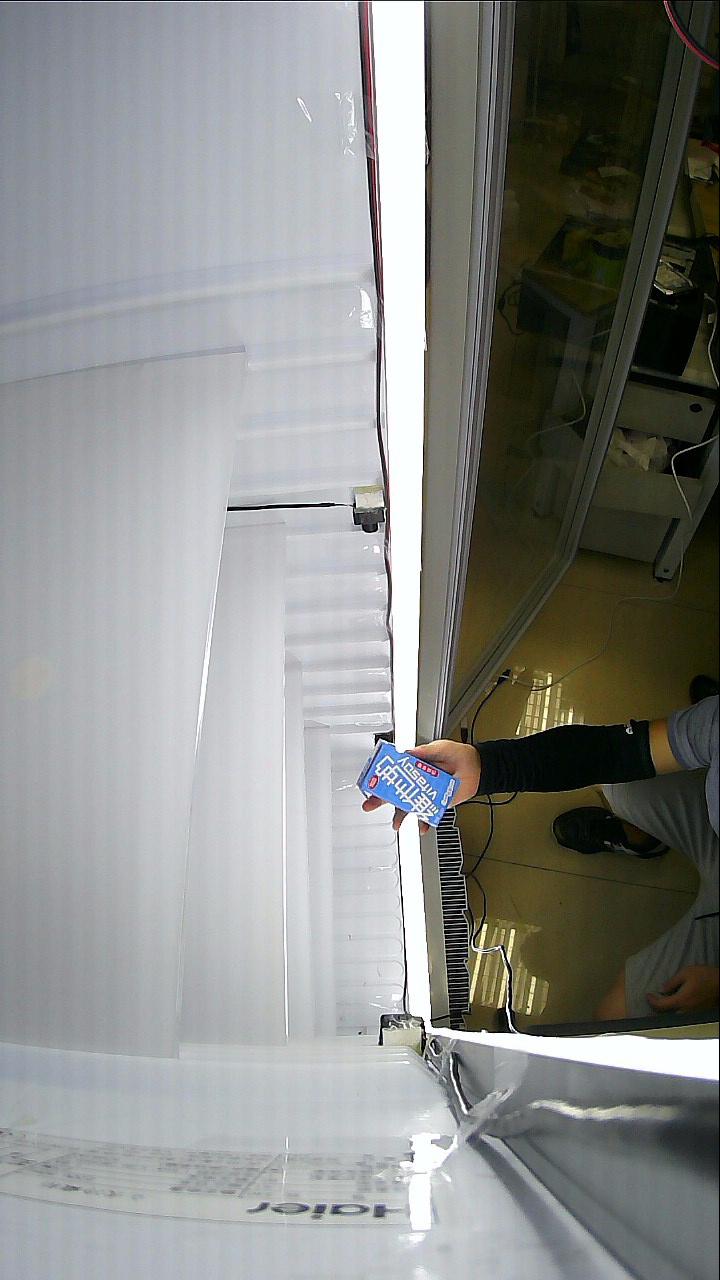VitaSoyOriginal: (362, 743, 508, 833)
